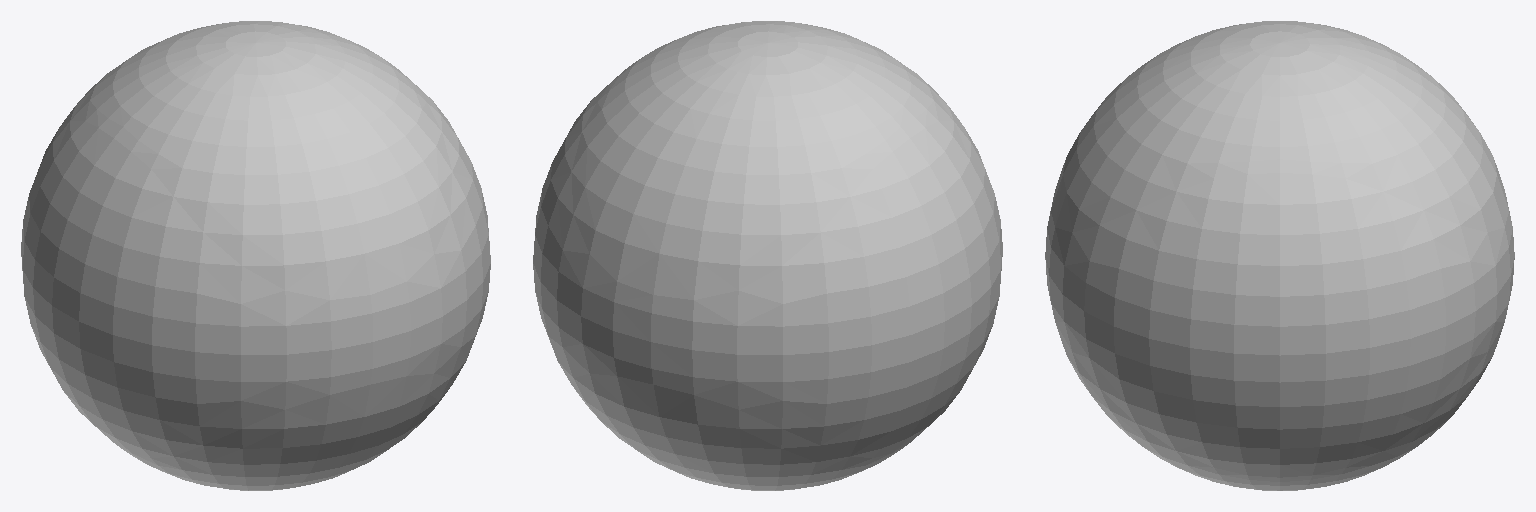
File: BasketBall.obj
3 views of the same model, side by side, from view 1: azimuth 30°, elevation 25°; view 2: azimuth 150°, elevation 25°; view 3: azimuth 270°, elevation 25° (orthographic).
Parts seen in each view (by area): view 1: BasketBall; view 2: BasketBall; view 3: BasketBall.
Part boxes in pixels (x1,y1,x2,y2): BasketBall: (21,21,490,490); BasketBall: (533,21,1002,490); BasketBall: (1045,21,1514,490).
Size of the model in its own units: 0.69 by 0.6889 by 0.6879.